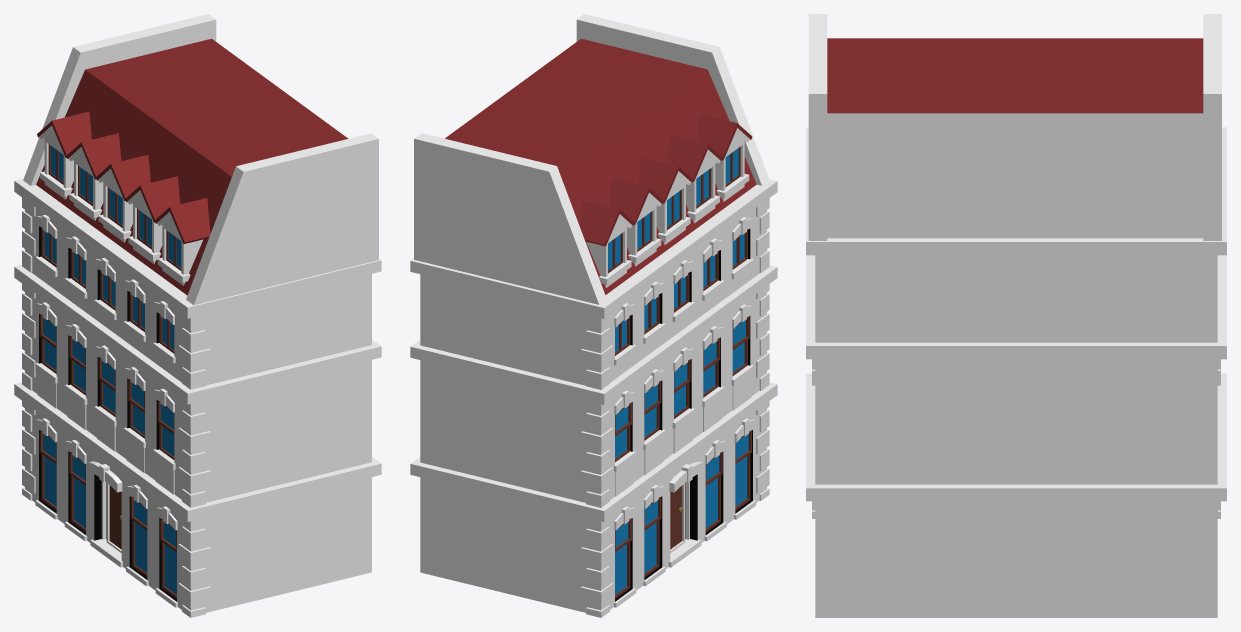
The model's file is house06.fbx.
3 renders of one model, left to right at view 1: azimuth 30°, elevation 25°; view 2: azimuth 150°, elevation 25°; view 3: azimuth 270°, elevation 25°, orthographic. The views are drawn at different scales.
Parts seen in each view (by area): view 1: _house06; view 2: _house06; view 3: _house06.
Boxes of the visible parts, bbox=[...] form: _house06: bbox=[14, 14, 381, 617]; _house06: bbox=[410, 14, 777, 617]; _house06: bbox=[806, 14, 1226, 617].
Bounding box in the file's own units: 73.57 × 157 × 114.
